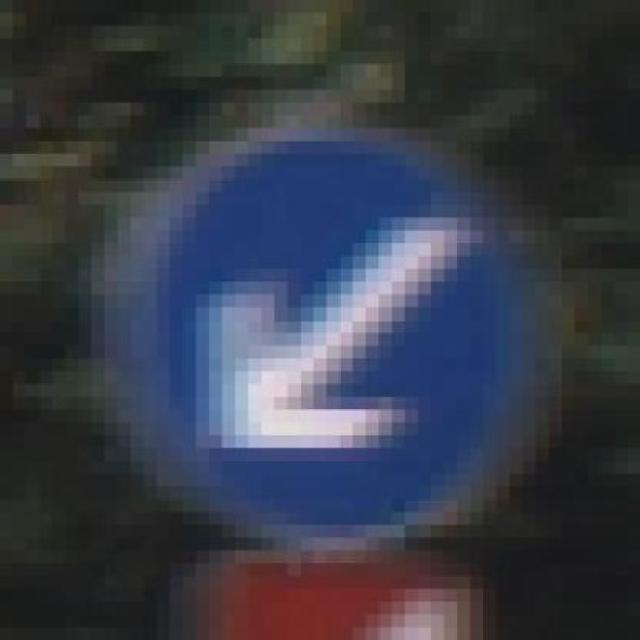Keep-Left: (143, 90, 562, 576)
